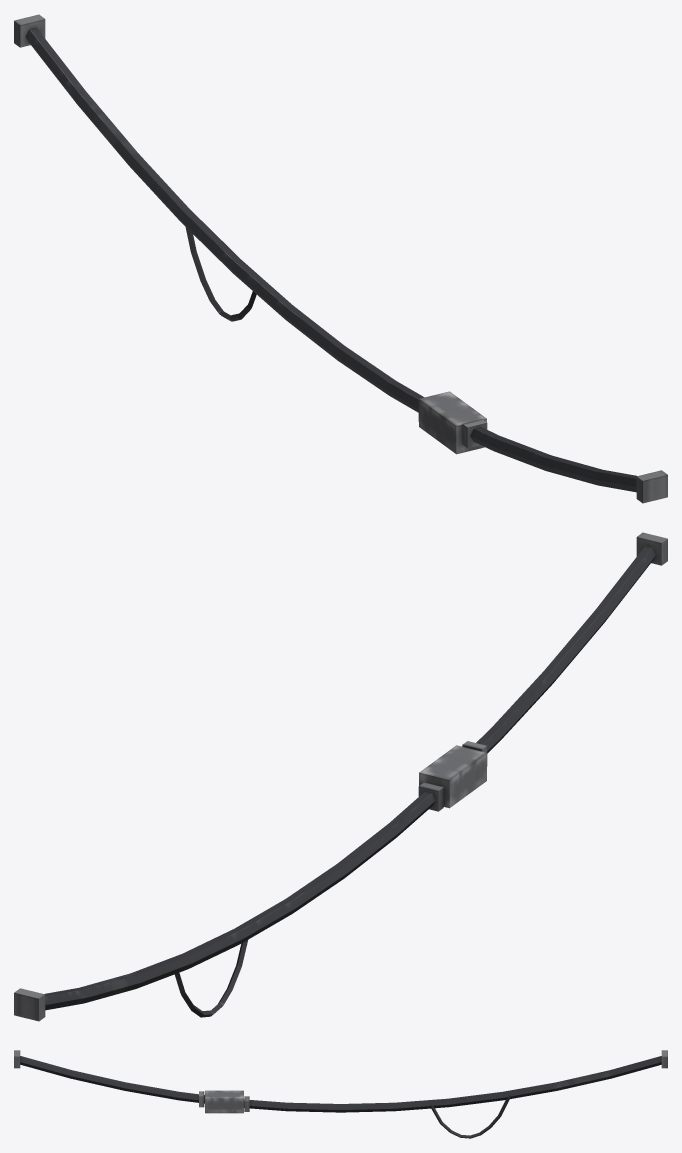
File: nodexeus-set-run-cable-c.glb
3 renders of one model, top to bottom at view 1: azimuth 30°, elevation 25°; view 2: azimuth 150°, elevation 25°; view 3: azimuth 270°, elevation 25°, orthographic. The views are drawn at different scales.
Parts seen in each view (by area): view 1: set-run-cable-c; view 2: set-run-cable-c; view 3: set-run-cable-c.
Part boxes in pixels (bbox=[...]): set-run-cable-c: bbox=[14, 14, 667, 503]; set-run-cable-c: bbox=[14, 532, 667, 1021]; set-run-cable-c: bbox=[14, 1050, 667, 1138].
Size of the model in its own units: 0.17 by 0.8559 by 6.06.
Materials: 1 (1 with a texture image).
